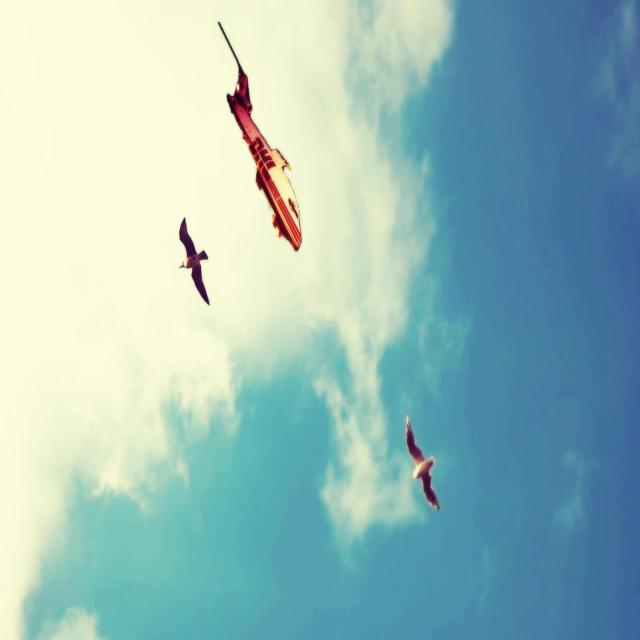airplane: (217, 19, 302, 252)
